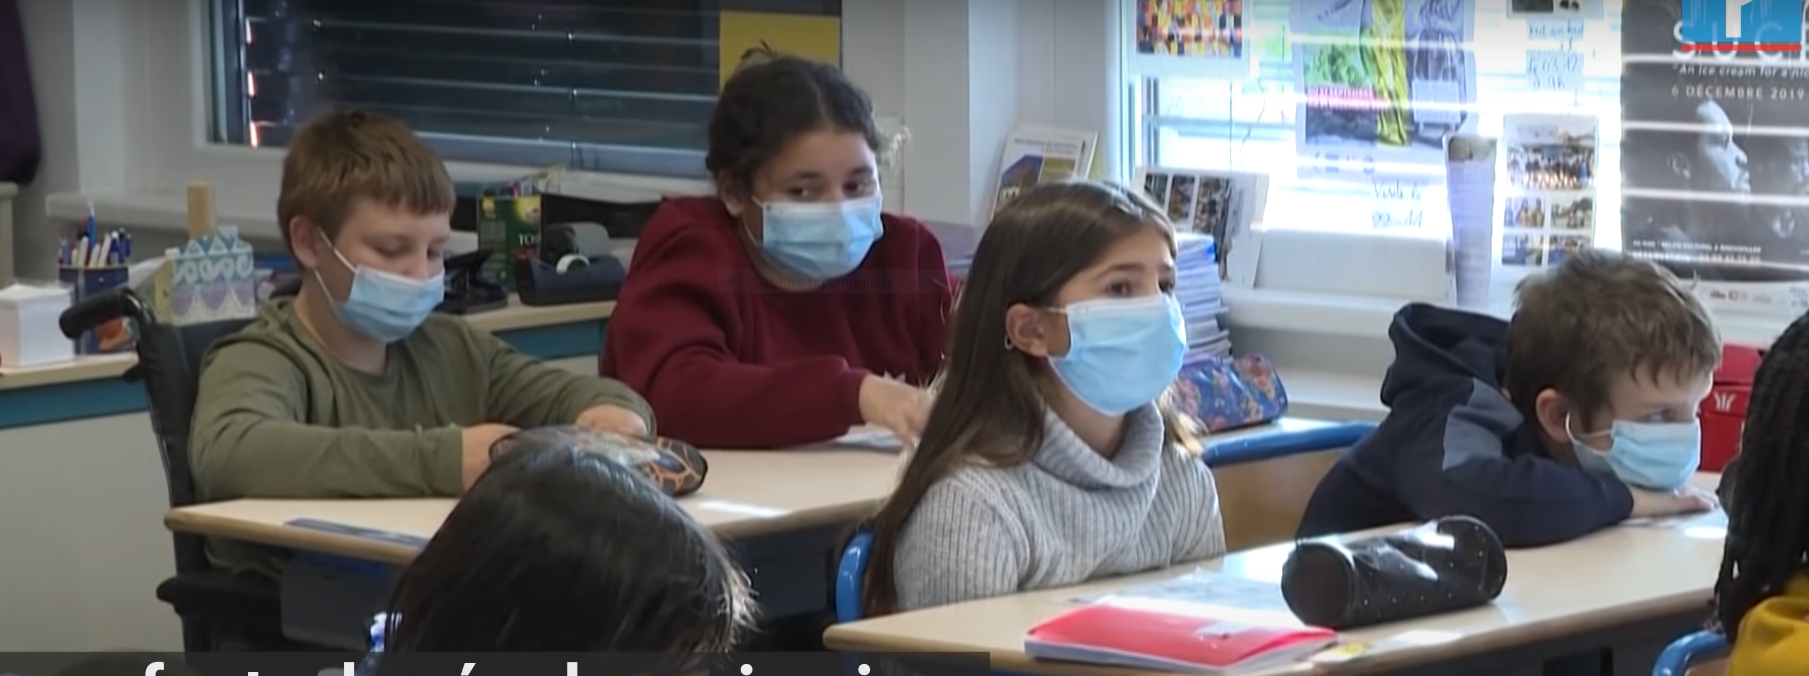with_mask: (295, 180, 442, 343), (1049, 247, 1175, 403), (742, 120, 876, 265), (1560, 373, 1700, 489)
